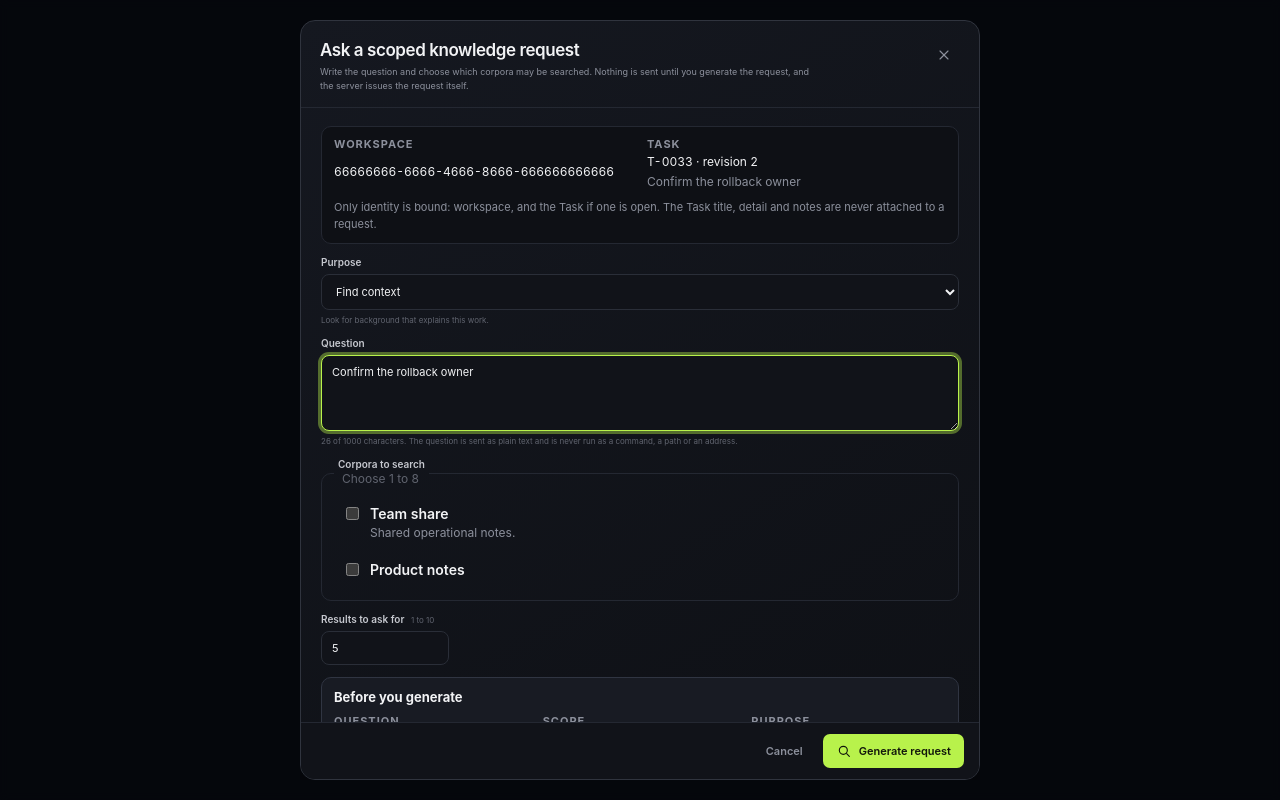
Test: an answer about another connection or revision is unknown, not a refusal
Replace the text in the text box labelled "Question" with "rollback verification owner" at point(640, 393), box [321,355,959,431]
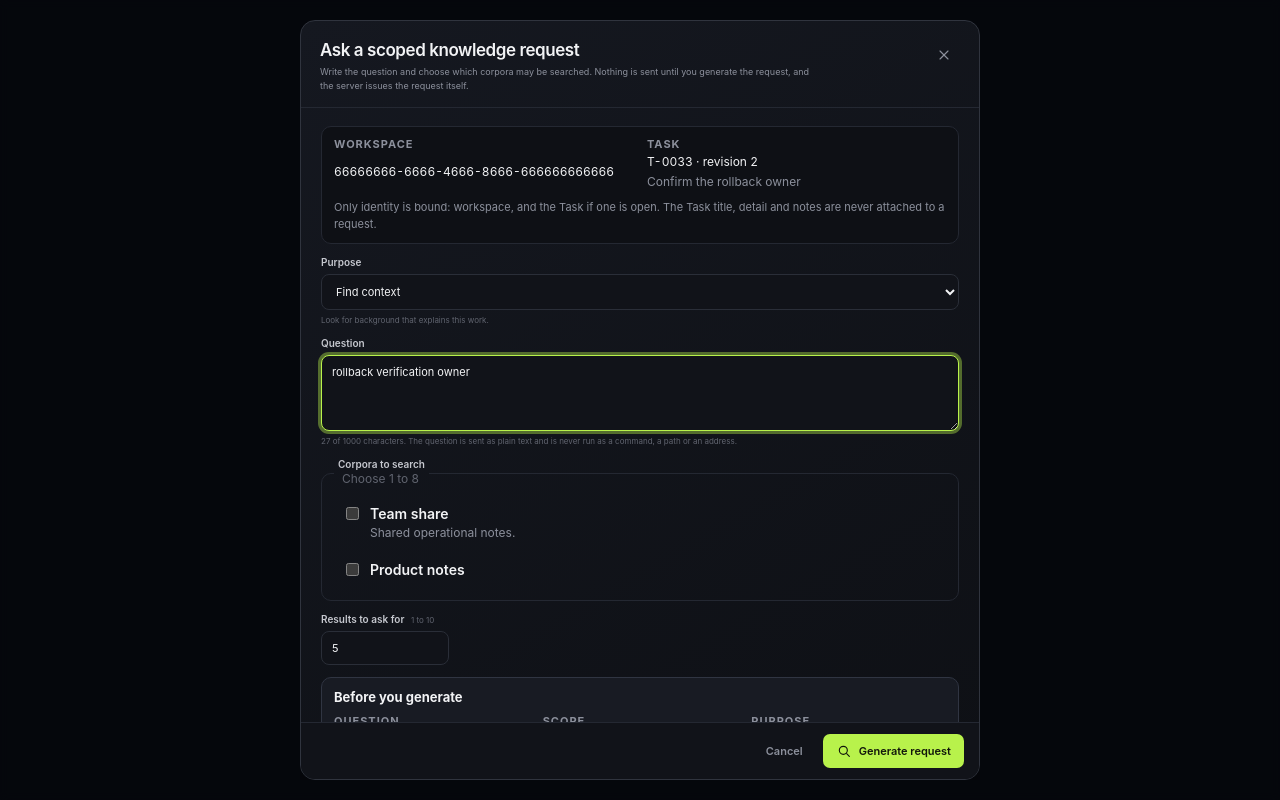
Click the checkbox labelled "Team share Shared operational notes." at point(352, 514), box [346,507,359,520]
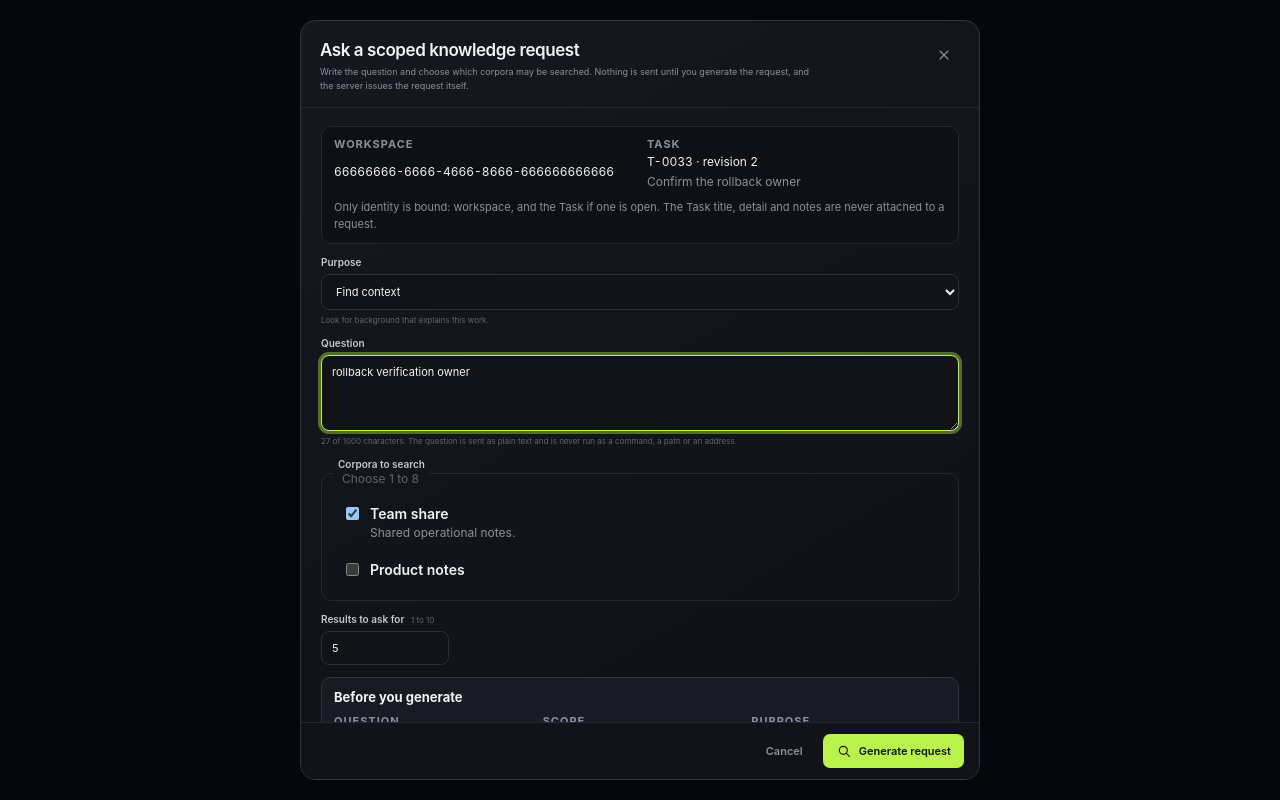
Click the button "Generate request" at point(893, 751), box [823,734,964,768]
(page scrolled)
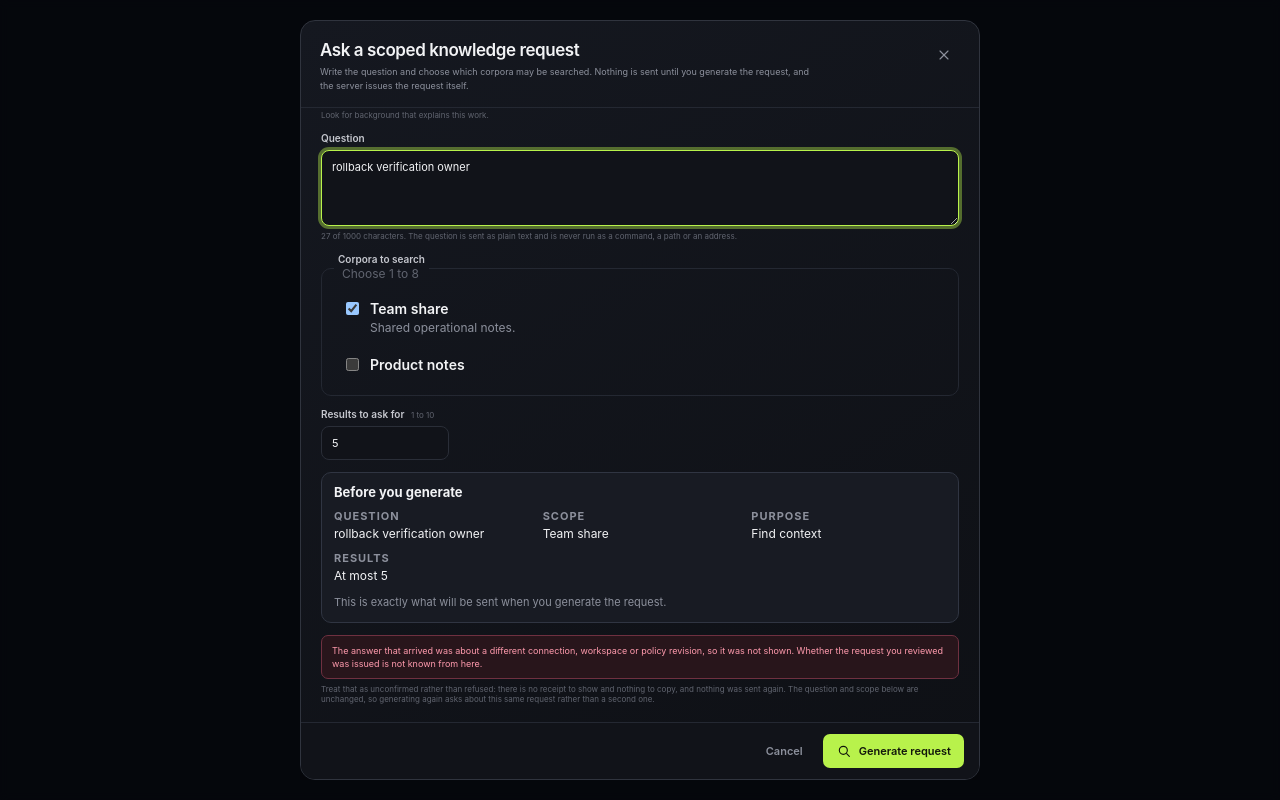
Now the message shows "was about a different connection", box [332,645,943,669]
Now the text "unconfirmed rather than refused" is shown, box [321,684,918,704]
